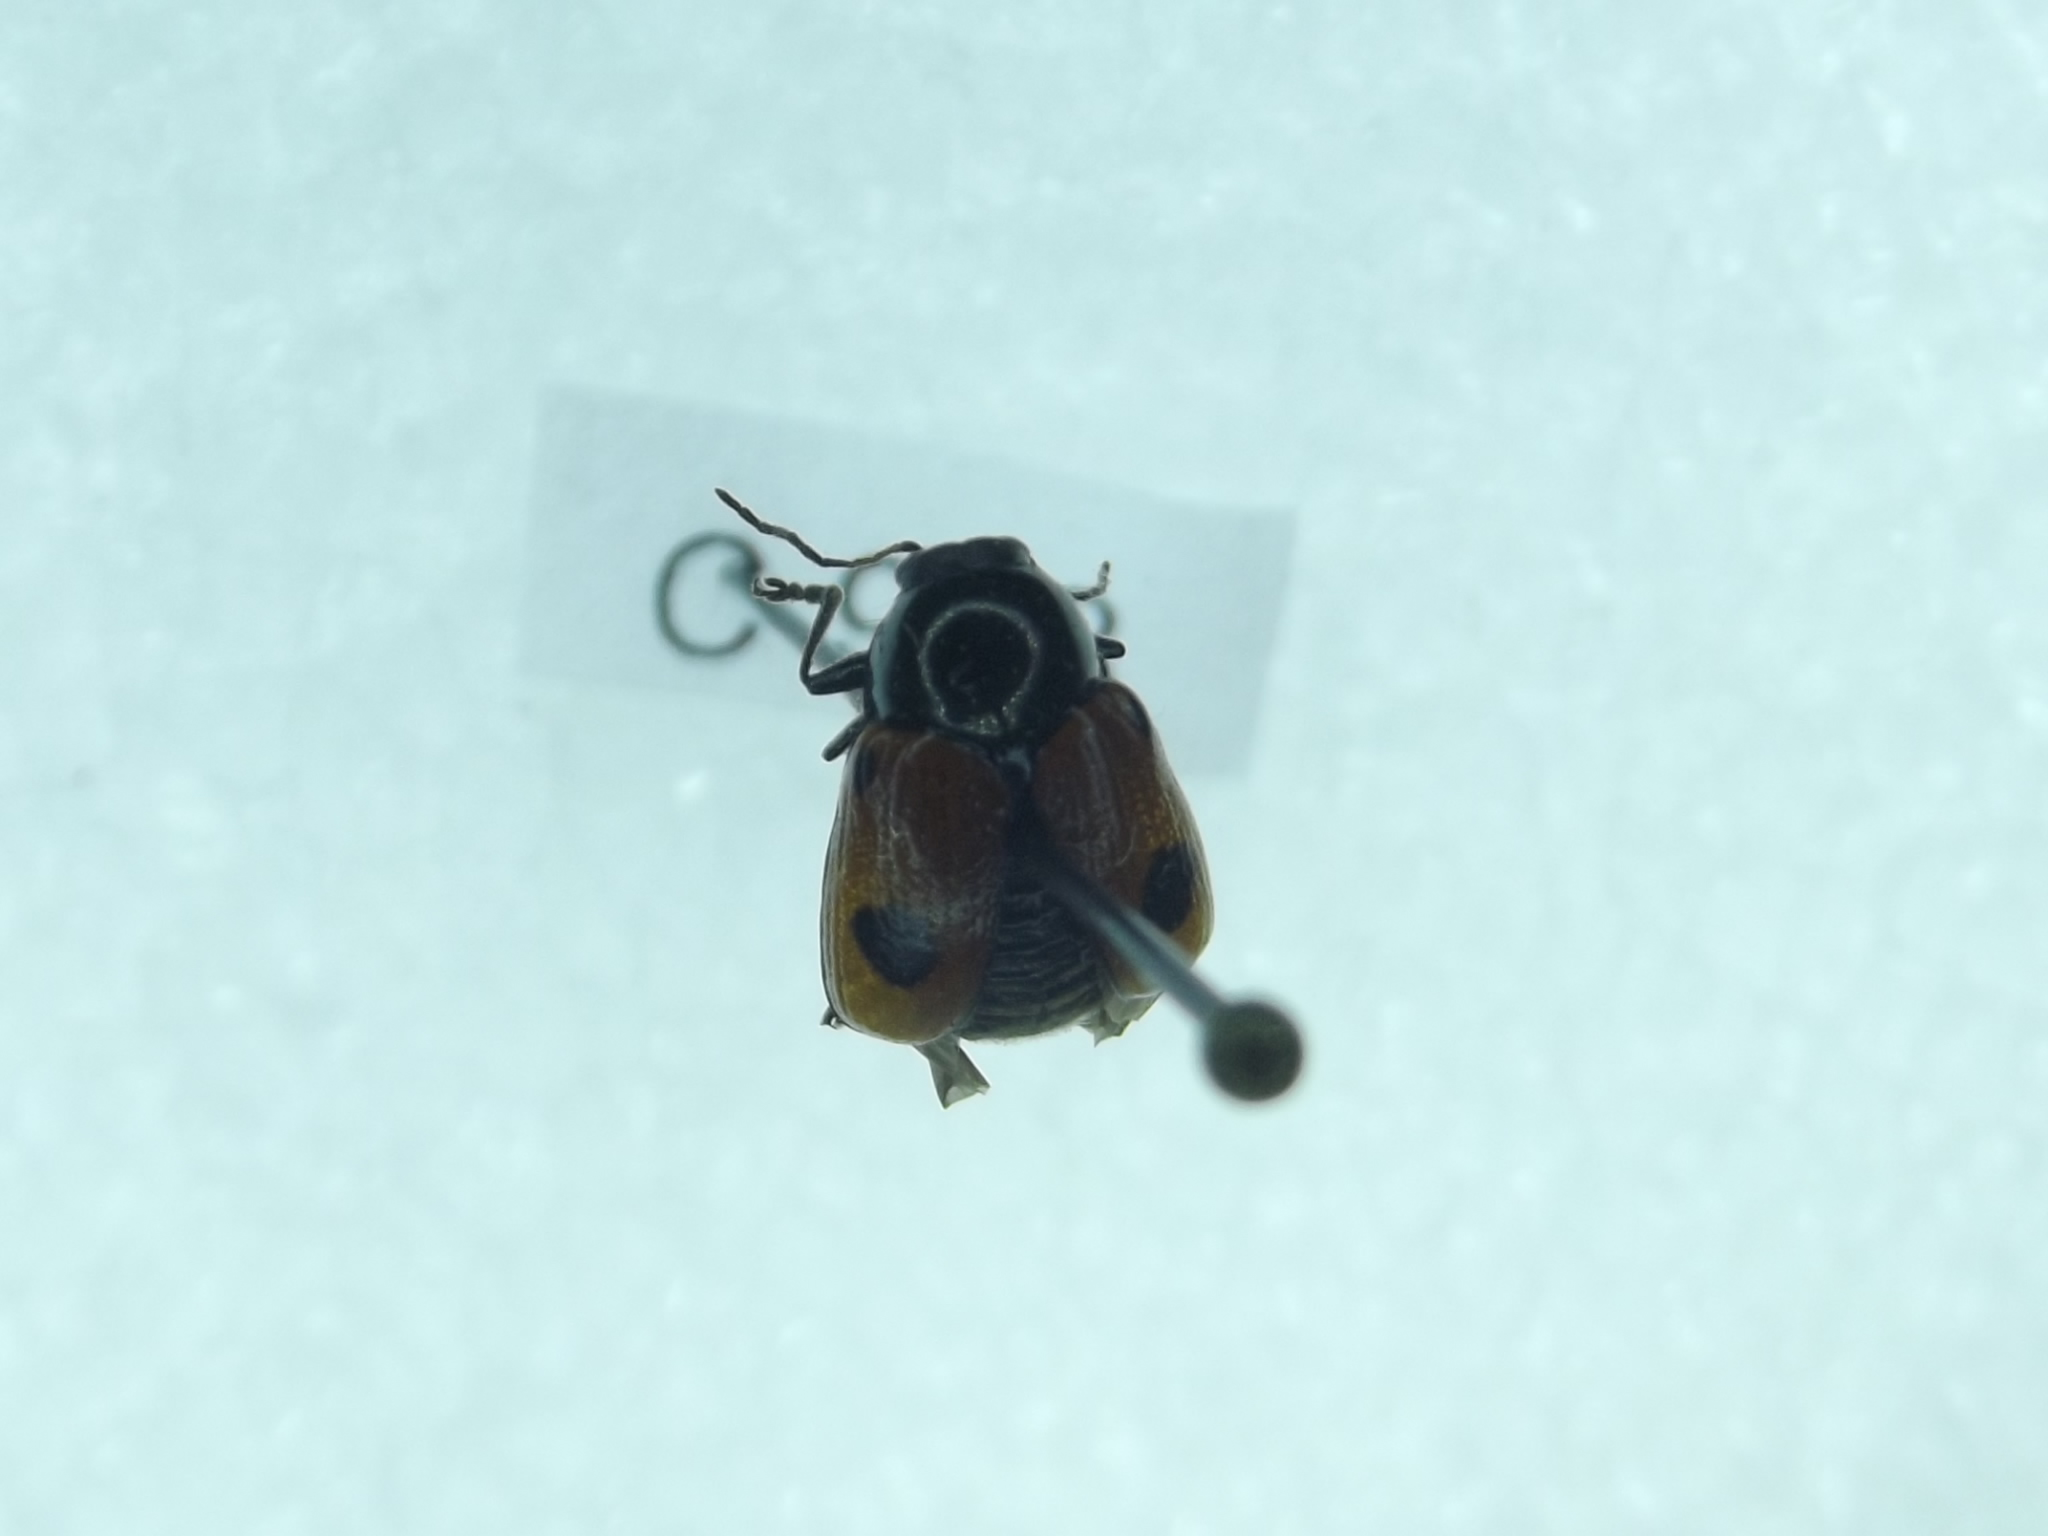Cryptocephalus_bipunctatus: (706, 482, 1243, 1129)
